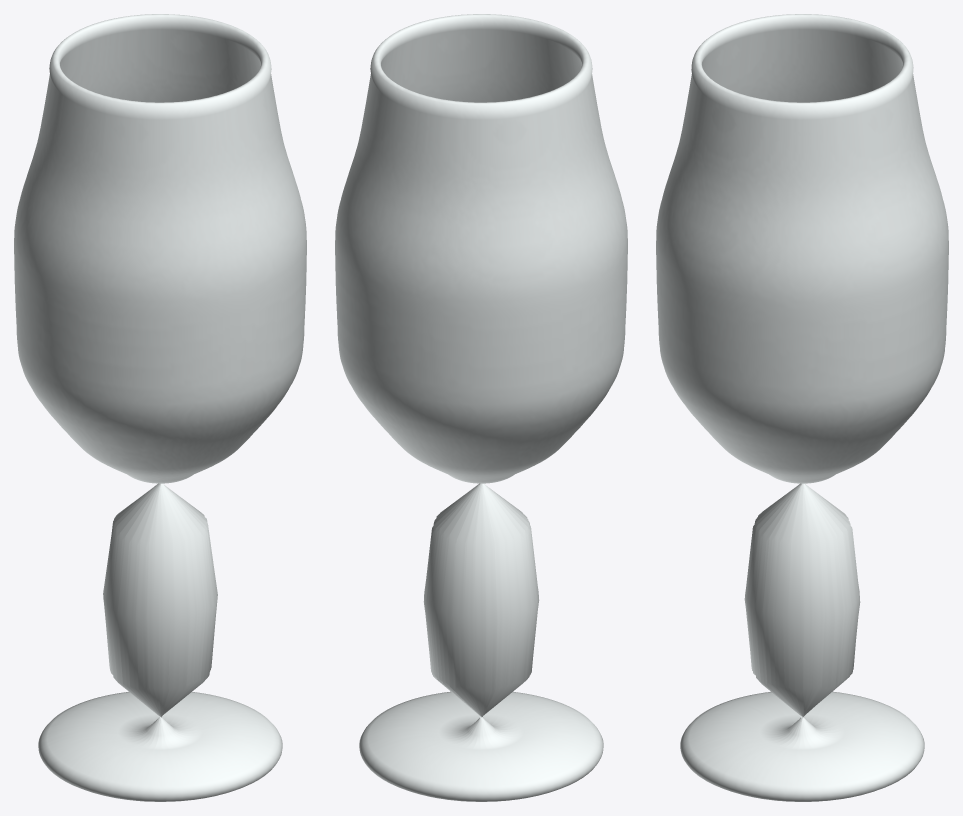
Rendered from wine-glass.glb.
3 renders of one model, left to right at view 1: azimuth 30°, elevation 25°; view 2: azimuth 150°, elevation 25°; view 3: azimuth 270°, elevation 25°, orthographic.
Visible parts, largest first — view 1: Stemware foot; view 2: Stemware foot; view 3: Stemware foot.
Part boxes in pixels (<box>): Stemware foot: <box>14,14,306,801</box>; Stemware foot: <box>335,14,627,801</box>; Stemware foot: <box>656,14,948,801</box>.
Bounding box in the file's own units: 0.0841 × 0.2217 × 0.0841.
Materials: 1 (1 with a texture image).
